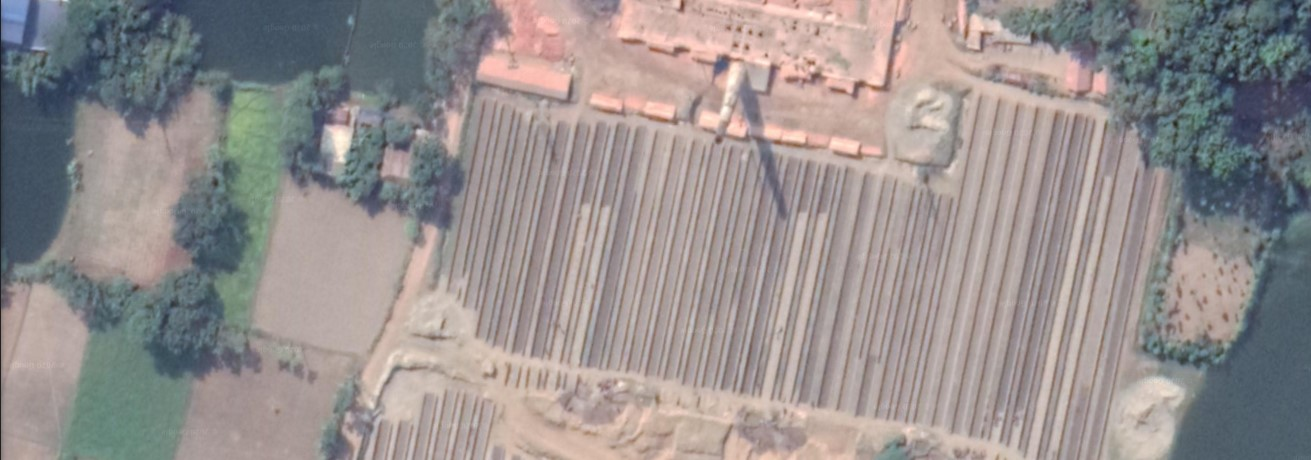kiln: (585, 3, 892, 210)
